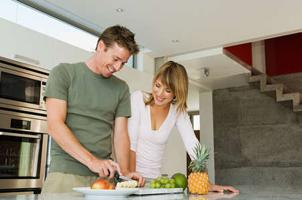person: (36, 25, 147, 200)
